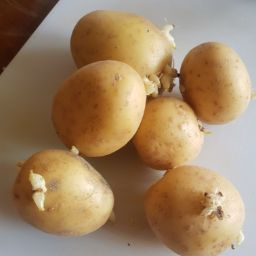Russet potato: (13, 7, 248, 256), (56, 4, 184, 105), (131, 164, 254, 256), (39, 60, 148, 160), (4, 144, 118, 238), (172, 32, 256, 131), (132, 93, 211, 170)
